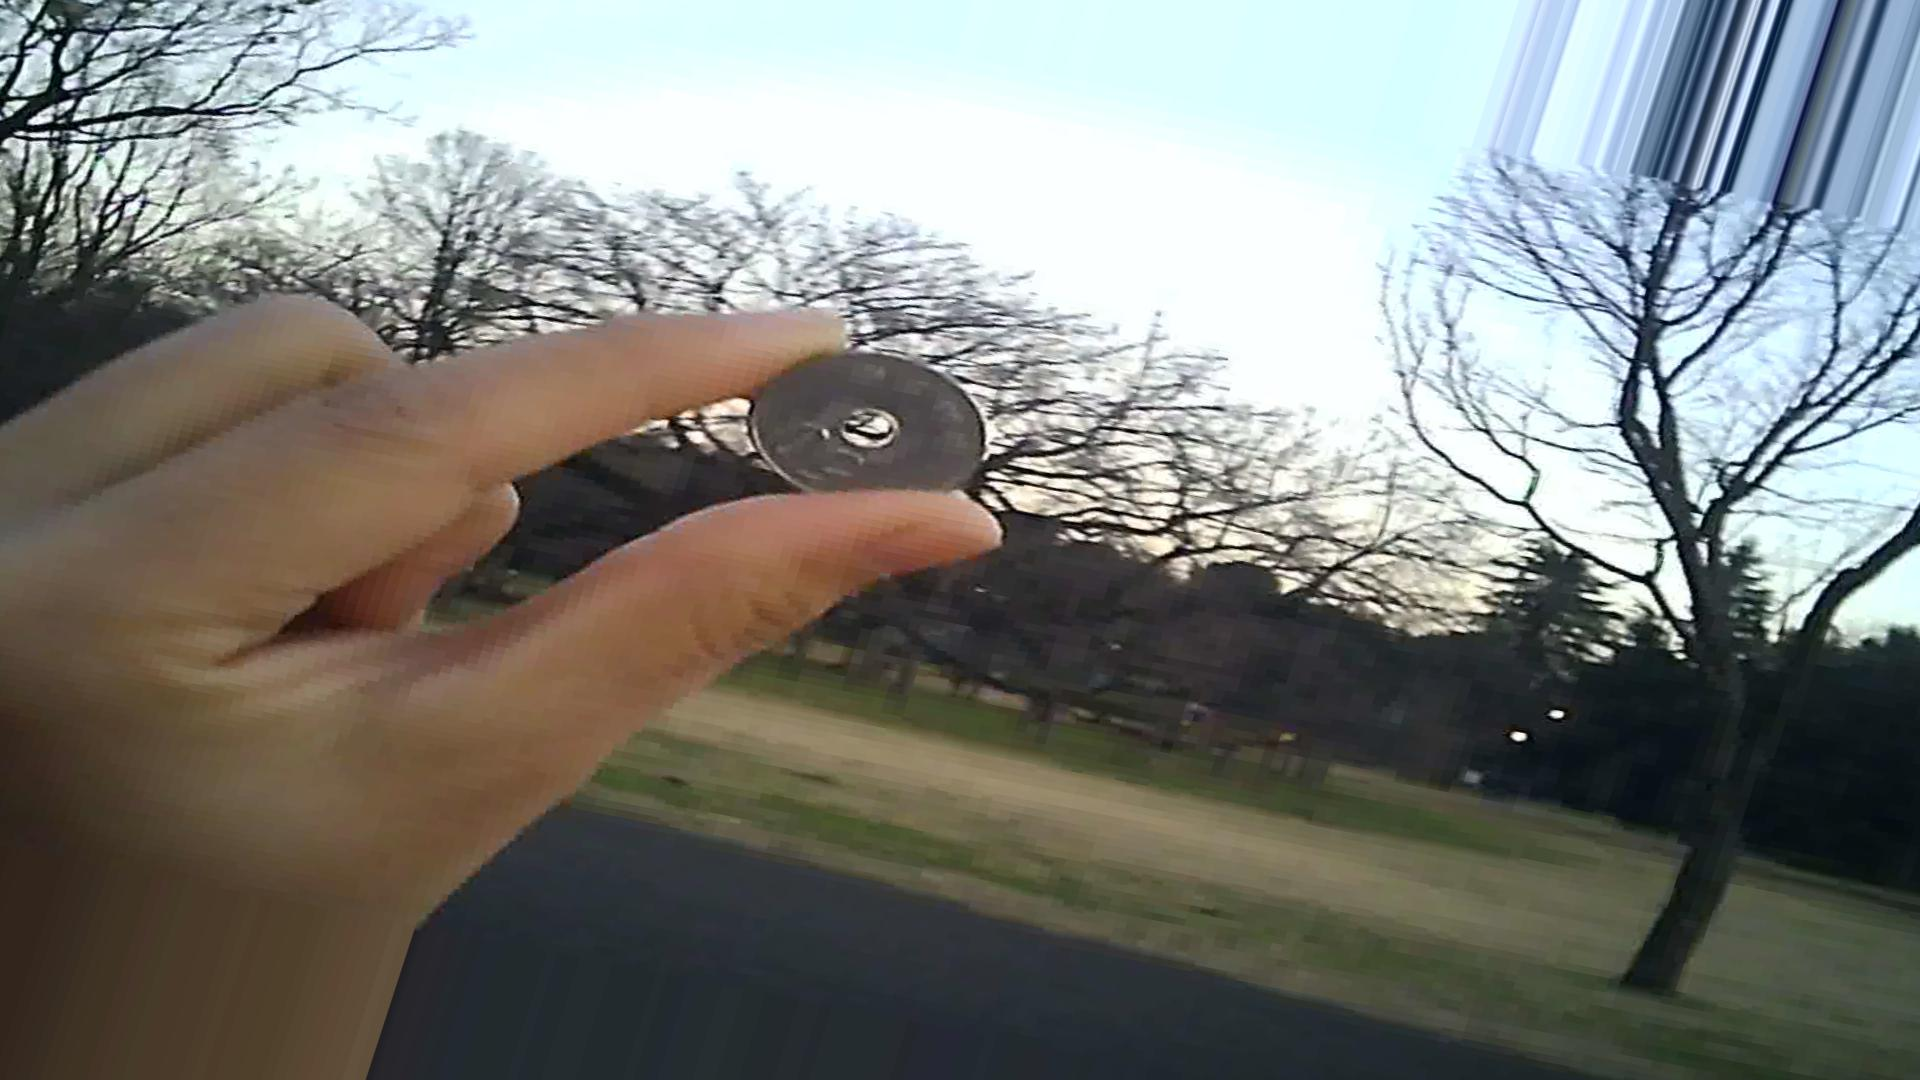50 Yen: (752, 347, 988, 509)
